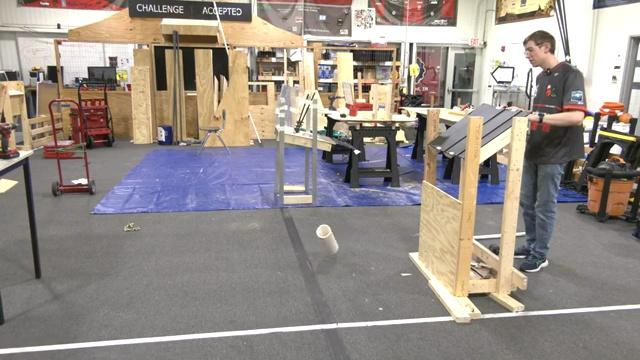CORAL: (314, 223, 339, 256)
